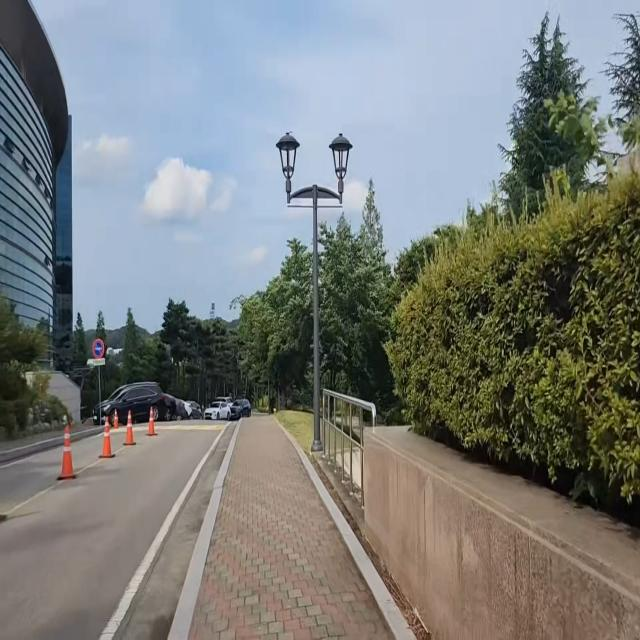obstacle: (272, 117, 358, 452), (85, 373, 172, 428), (57, 418, 82, 483), (97, 404, 118, 461)
road: (0, 425, 234, 640)
sidewalk: (174, 415, 407, 640)
